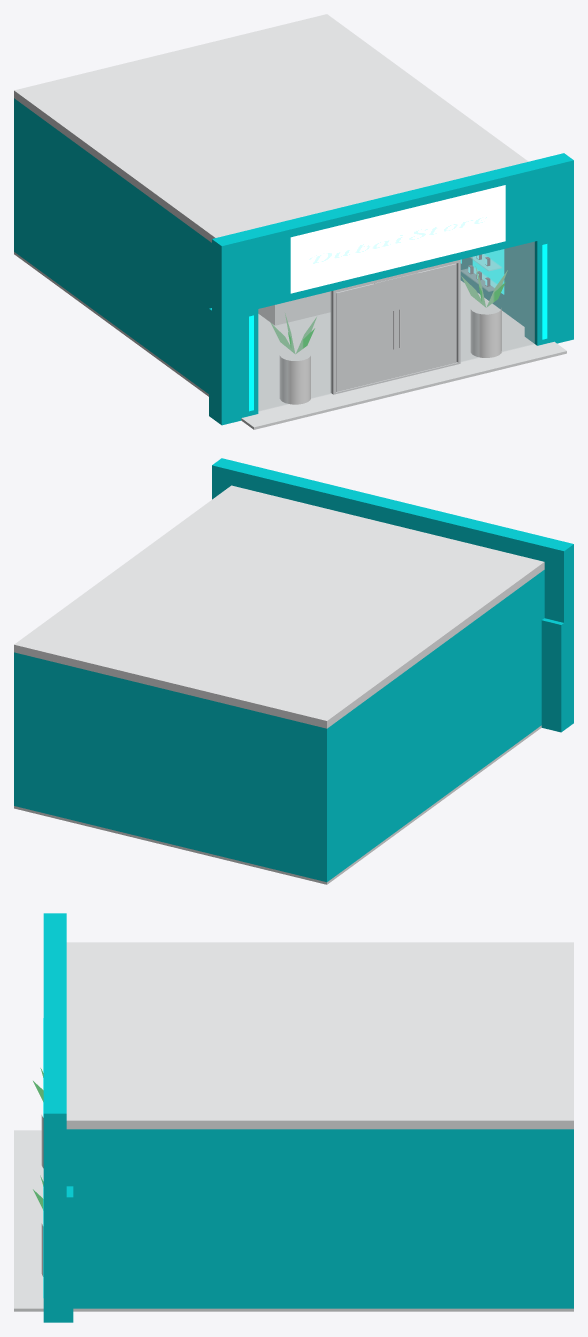
The model's file is Dubai_Store_3D_Official.glb.
3 renders of one model, top to bottom at view 1: azimuth 30°, elevation 25°; view 2: azimuth 150°, elevation 25°; view 3: azimuth 270°, elevation 25°, orthographic. The views are drawn at different scales.
Visible parts, largest first — view 1: Interior_Ceiling, Interior_Wall_Left, Fascia_Top, Fascia_Logo_Sign, Interior_Marble_Floor, Facade_Glass_Right, Facade_Glass_Left, Door_Left_Frame, Door_Right_Frame, Pillar_Left, Pillar_Right, Interior_Wall_Right (+6 smaller); view 2: Interior_Ceiling, Interior_Wall_Back, Interior_Wall_Left, Fascia_Top, Pillar_Left, Interior_Marble_Floor, Interior_Wall_Right; view 3: Interior_Ceiling, Interior_Wall_Right, Interior_Marble_Floor, Fascia_Top, Pillar_Right, Interior_Wall_Back.
Part boxes in pixels (x1,y1,x2,y2): Interior_Ceiling: (14, 14, 528, 242); Interior_Wall_Left: (14, 98, 211, 393); Fascia_Top: (212, 153, 573, 317); Fascia_Logo_Sign: (290, 185, 505, 293); Interior_Marble_Floor: (14, 252, 566, 429); Facade_Glass_Right: (460, 241, 534, 361); Facade_Glass_Left: (258, 291, 331, 410); Door_Left_Frame: (336, 280, 397, 391); Door_Right_Frame: (395, 263, 456, 377); Pillar_Left: (209, 308, 258, 425); Pillar_Right: (524, 232, 573, 345); Interior_Wall_Right: (460, 244, 524, 326); Interior_Ceiling: (14, 485, 544, 728); Interior_Wall_Back: (14, 653, 331, 881); Interior_Wall_Left: (319, 570, 544, 882); Fascia_Top: (212, 458, 573, 622); Pillar_Left: (541, 616, 573, 732); Interior_Marble_Floor: (14, 725, 541, 884); Interior_Wall_Right: (14, 652, 21, 807); Interior_Ceiling: (66, 942, 573, 1129); Interior_Wall_Right: (66, 1129, 573, 1308); Interior_Marble_Floor: (14, 1130, 573, 1311); Fascia_Top: (43, 913, 66, 1197); Pillar_Right: (43, 1186, 73, 1322); Interior_Wall_Back: (564, 1129, 573, 1307).
Bounding box in the file's own units: 7.2 × 3.5 × 8.5.
13 materials, 1 textured.
